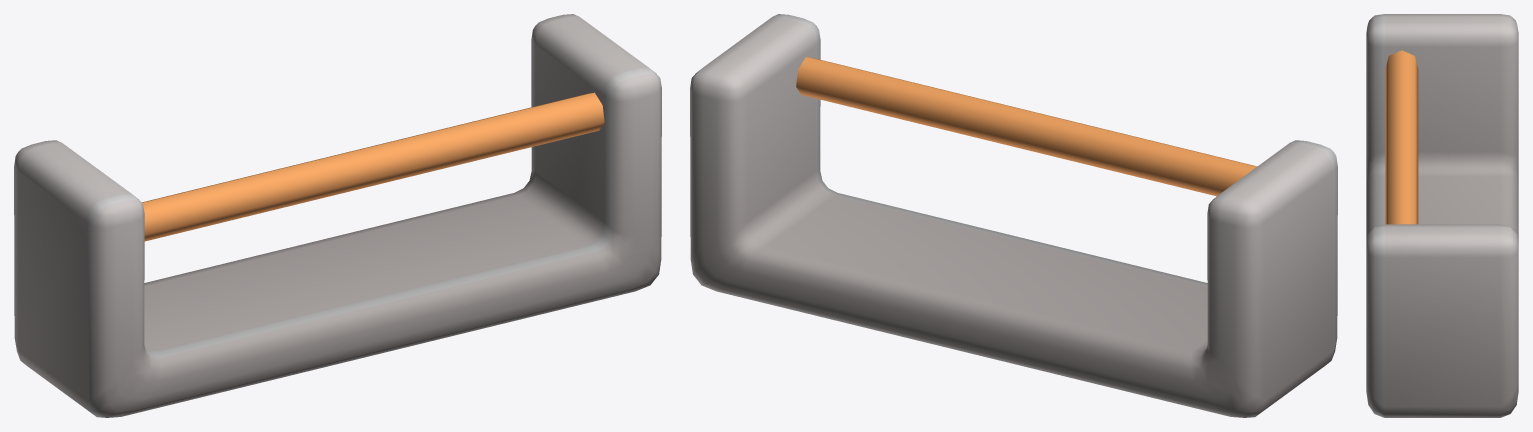
The model's file is Shelf_05.glb.
3 views of the same model, side by side, from view 1: azimuth 30°, elevation 25°; view 2: azimuth 150°, elevation 25°; view 3: azimuth 270°, elevation 25° (orthographic). The views are drawn at different scales.
Parts seen in each view (by area): view 1: Shelf_05; view 2: Shelf_05; view 3: Shelf_05.
Boxes of the visible parts, <box> form: Shelf_05: <box>14,14,661,417</box>; Shelf_05: <box>690,14,1337,417</box>; Shelf_05: <box>1366,14,1518,417</box>.
Size of the model in its own units: 0.9 by 0.33 by 0.25.
1 material, 1 textured.
